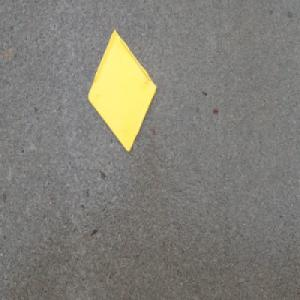PlasticPart: (85, 27, 157, 153)
